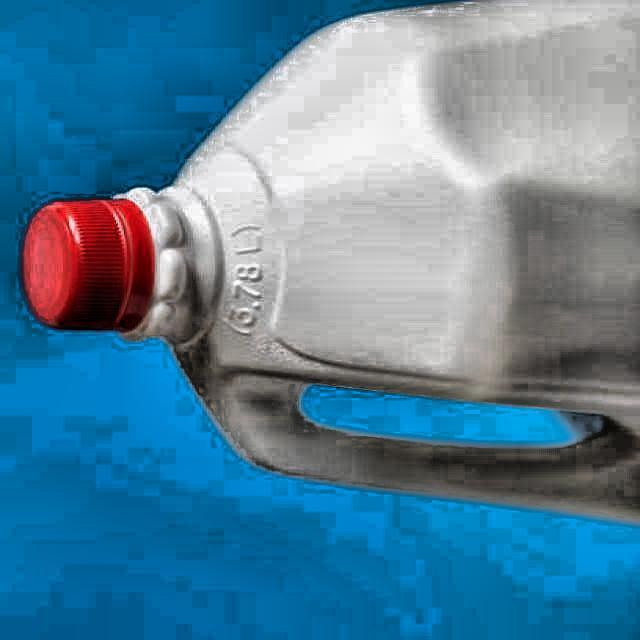plastic: (22, 1, 640, 522)
